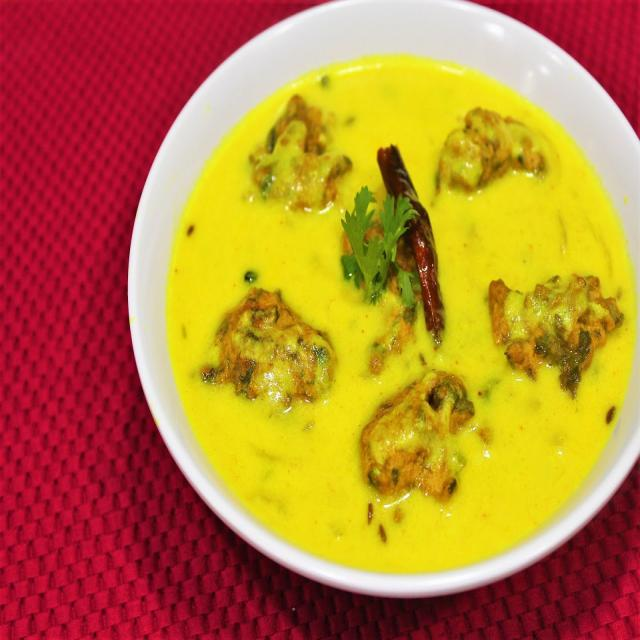Kadhi Pakora: (170, 56, 640, 566)
